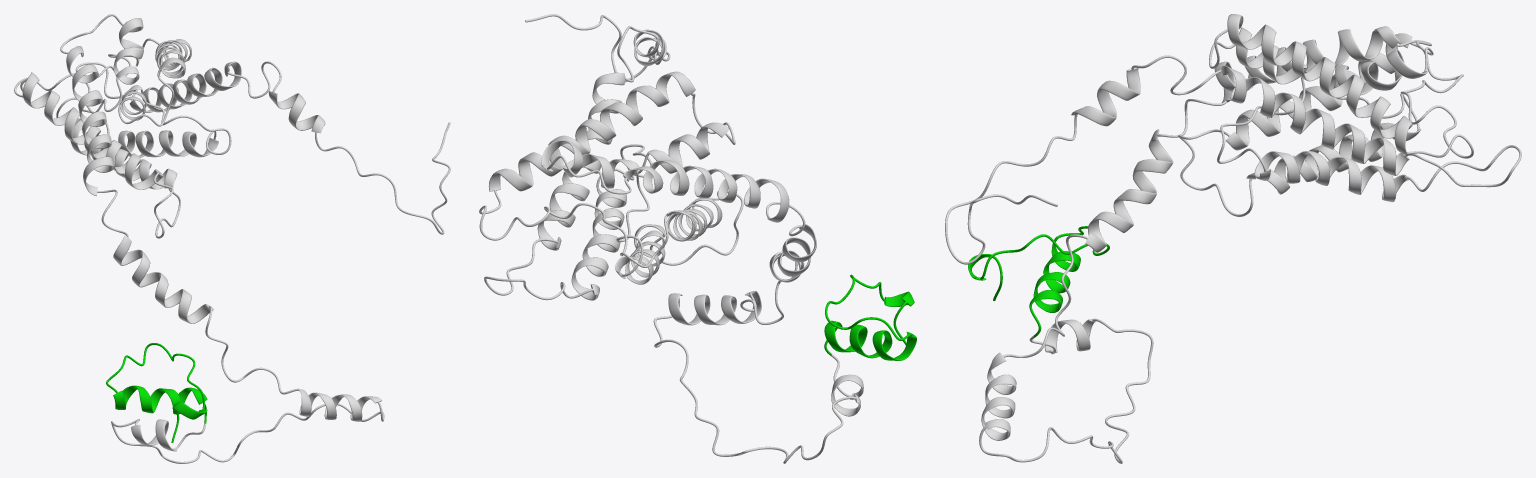
The model's file is molecula.glb.
The picture shows the model from 3 angles, left to right: view 1: azimuth 30°, elevation 25°; view 2: azimuth 150°, elevation 25°; view 3: azimuth 270°, elevation 25°; orthographic projection. The views are drawn at different scales.
Visible parts, largest first — view 1: ribbons; view 2: ribbons; view 3: ribbons.
Part boxes in pixels (bbox=[...]): ribbons: bbox=[14, 14, 450, 463]; ribbons: bbox=[479, 14, 916, 463]; ribbons: bbox=[945, 14, 1521, 463].
Bounding box in the file's own units: 73.27 × 76.52 × 90.25.
